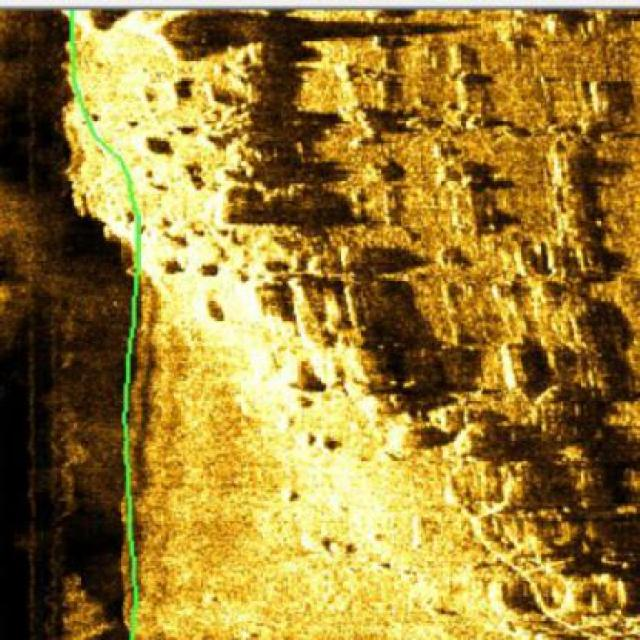bedrock group: (62, 7, 640, 639)
